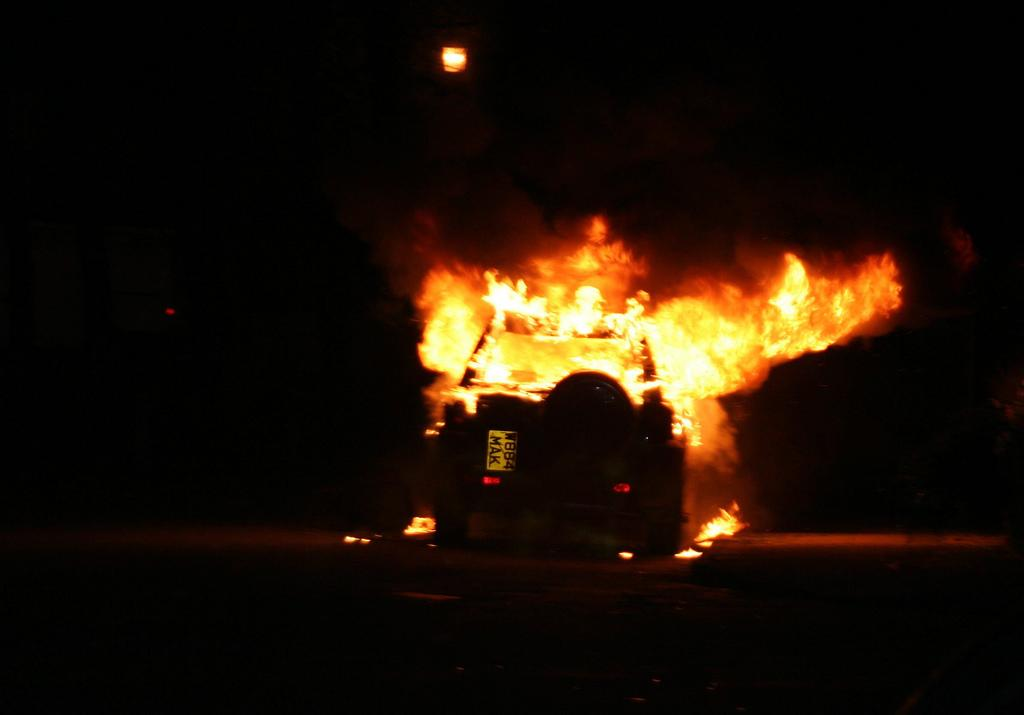fire: (430, 274, 644, 374), (788, 264, 898, 356), (652, 304, 750, 392)
